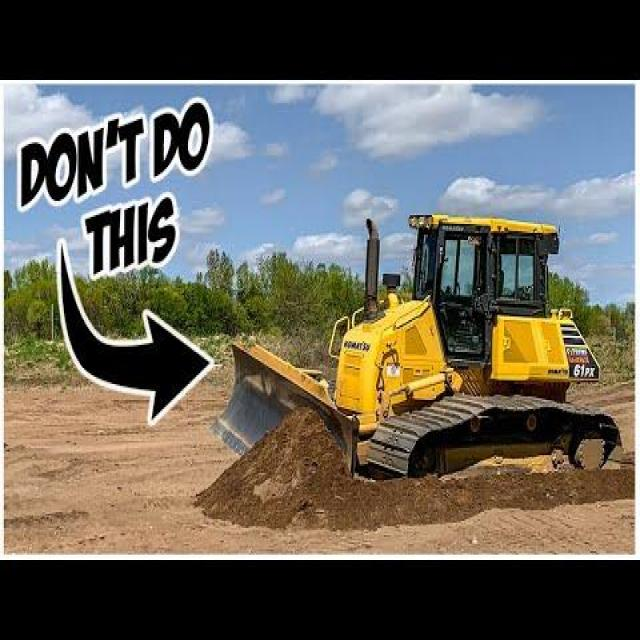Bulldozer: (220, 176, 620, 500)
